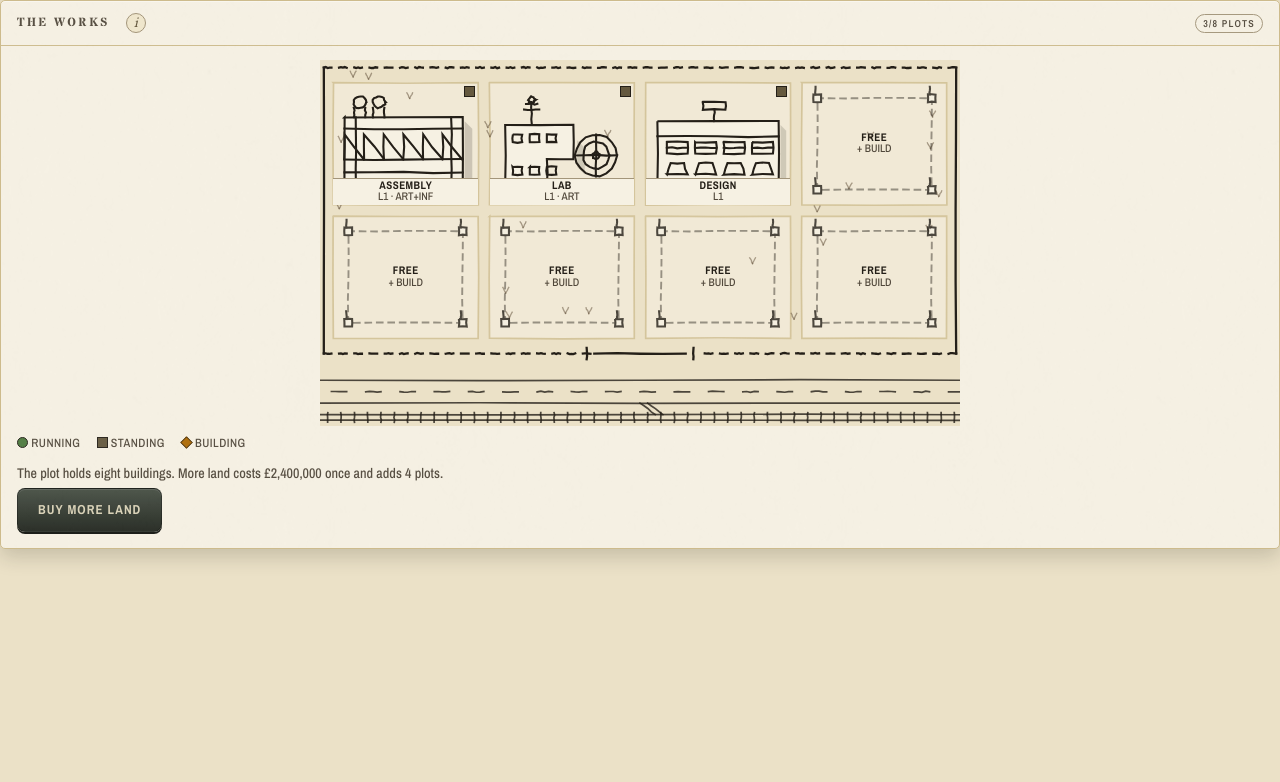
Test: tomtplanen (P179) › ett tryck på en byggnad öppnar kortet: en mening, status, kostnad och nästa nivå ur kärnan
Click the button "ASSEMBLY L1 · ART+INF". click: (406, 144)
box: [333,83,478,205]
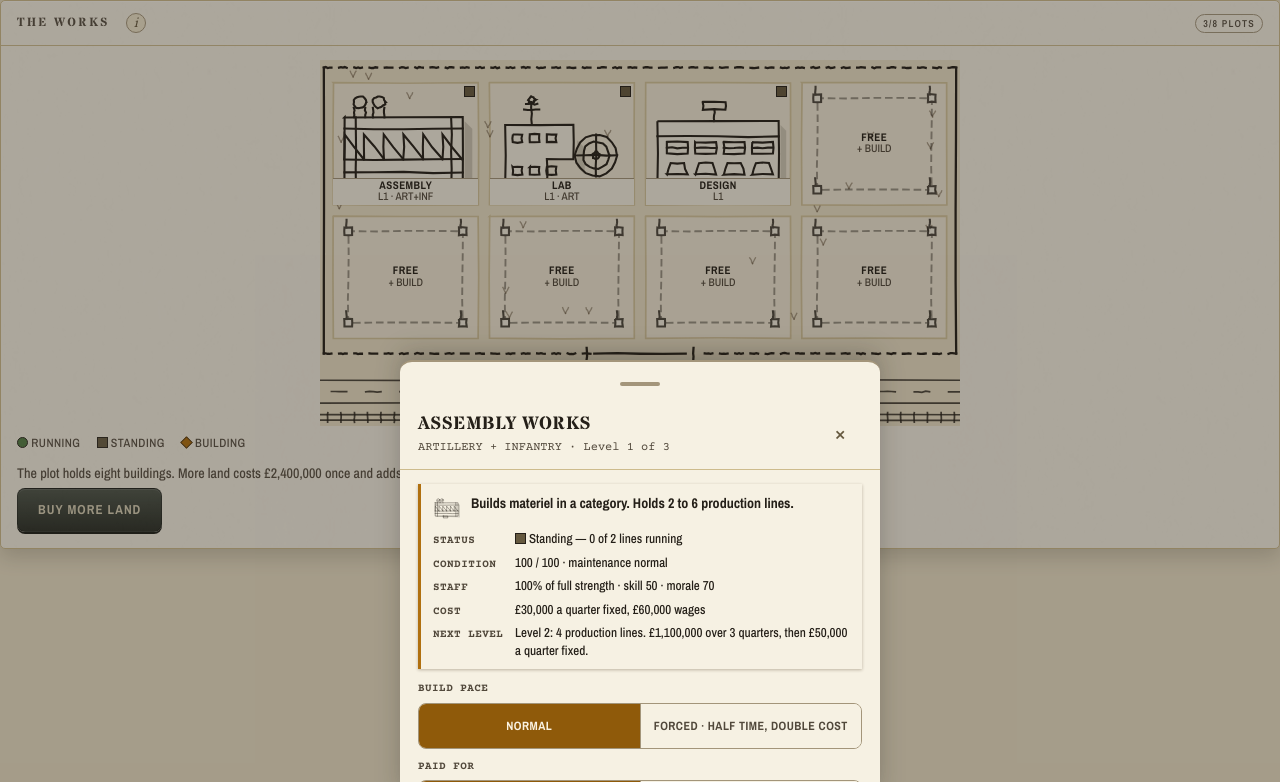
Now the text with test id "facility-does" reads "Builds materiel in a category. Holds 2 to 6 production lines.", box [471,494,794,512]
Now the text "100 / 100 · maintenance normal" is shown, box [515,554,668,570]
Now the text "100% of full strength · skill 50 · morale 70" is shown, box [515,577,714,594]
